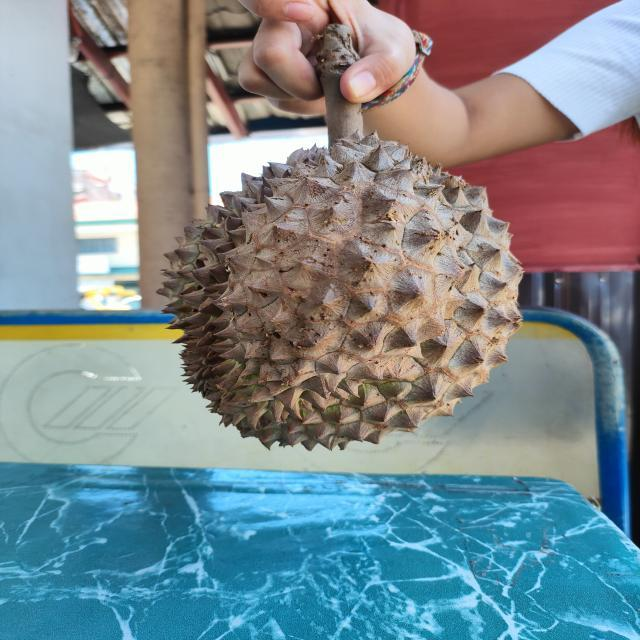mature: (159, 130, 526, 456)
